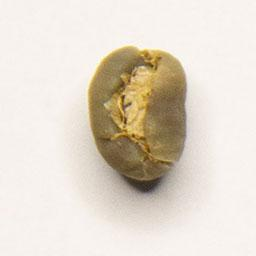peaberry: (83, 42, 189, 185)
